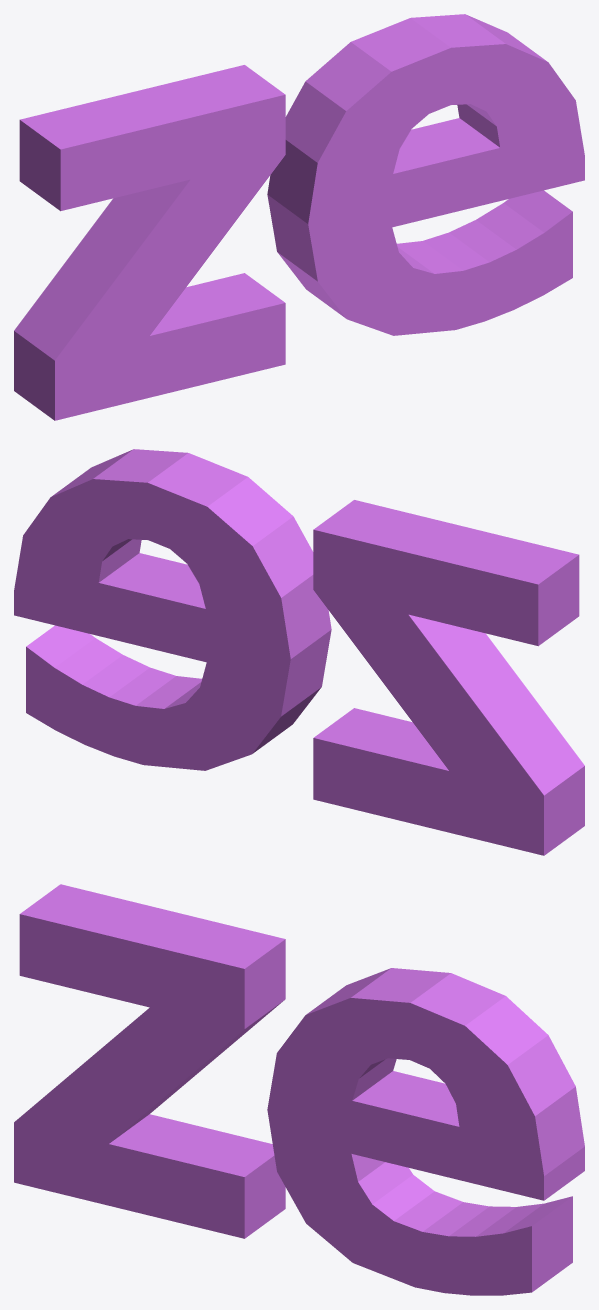
Rendered from suku_kecil_ze.glb.
The picture shows the model from 3 angles, top to bottom: view 1: azimuth 30°, elevation 25°; view 2: azimuth 150°, elevation 25°; view 3: azimuth 330°, elevation 25°; orthographic projection.
Parts seen in each view (by area): view 1: geometry_0; view 2: geometry_0; view 3: geometry_0.
Boxes of the visible parts, bbox=[...] form: geometry_0: bbox=[14, 14, 584, 420]; geometry_0: bbox=[14, 449, 584, 855]; geometry_0: bbox=[14, 884, 584, 1295].
Bounding box in the file's own units: 11.24 × 5.74 × 1.5.
